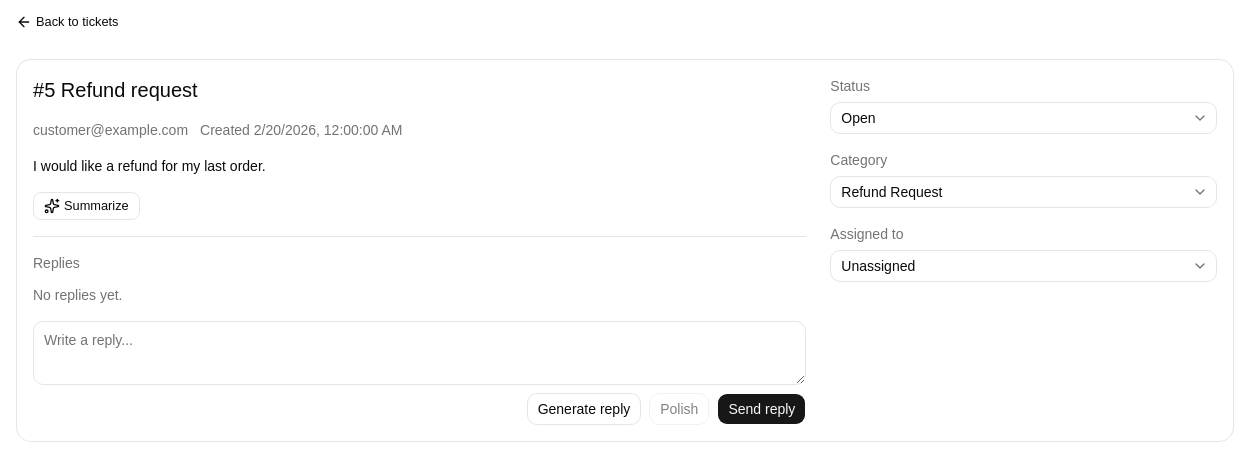
Test: TicketDetailPage › renders the update panel for the current ticket and assignable users
Expected: the text "#5 Refund request" is shown, [33,79,198,101]
Expected: the dropdown named "Status" reads "Open", [830,102,1217,134]
Click the dropdown named "Assigned to". click: (878, 266)
box: [830,250,1217,282]
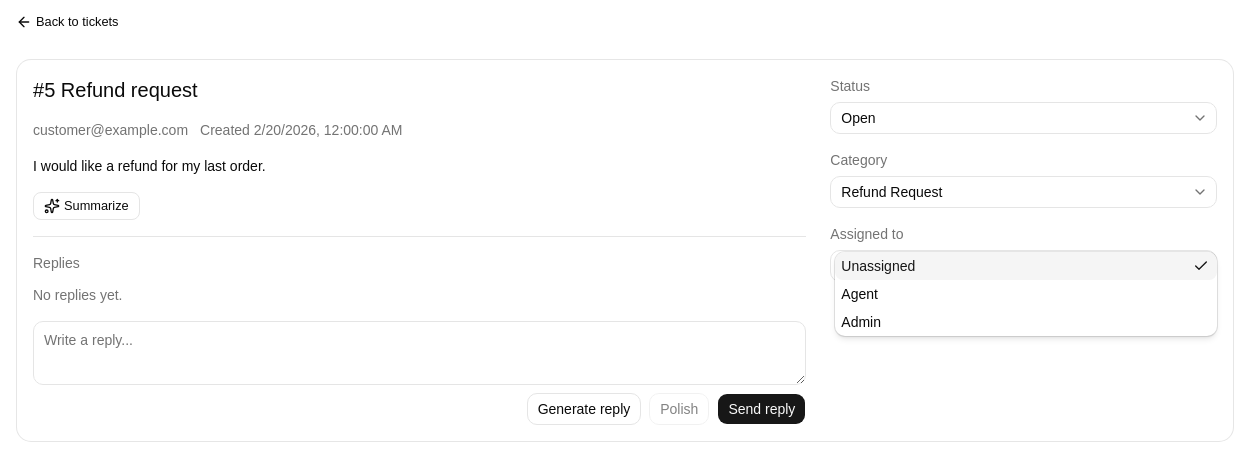
Now the option "Agent" is shown, box [841,286,878,302]
